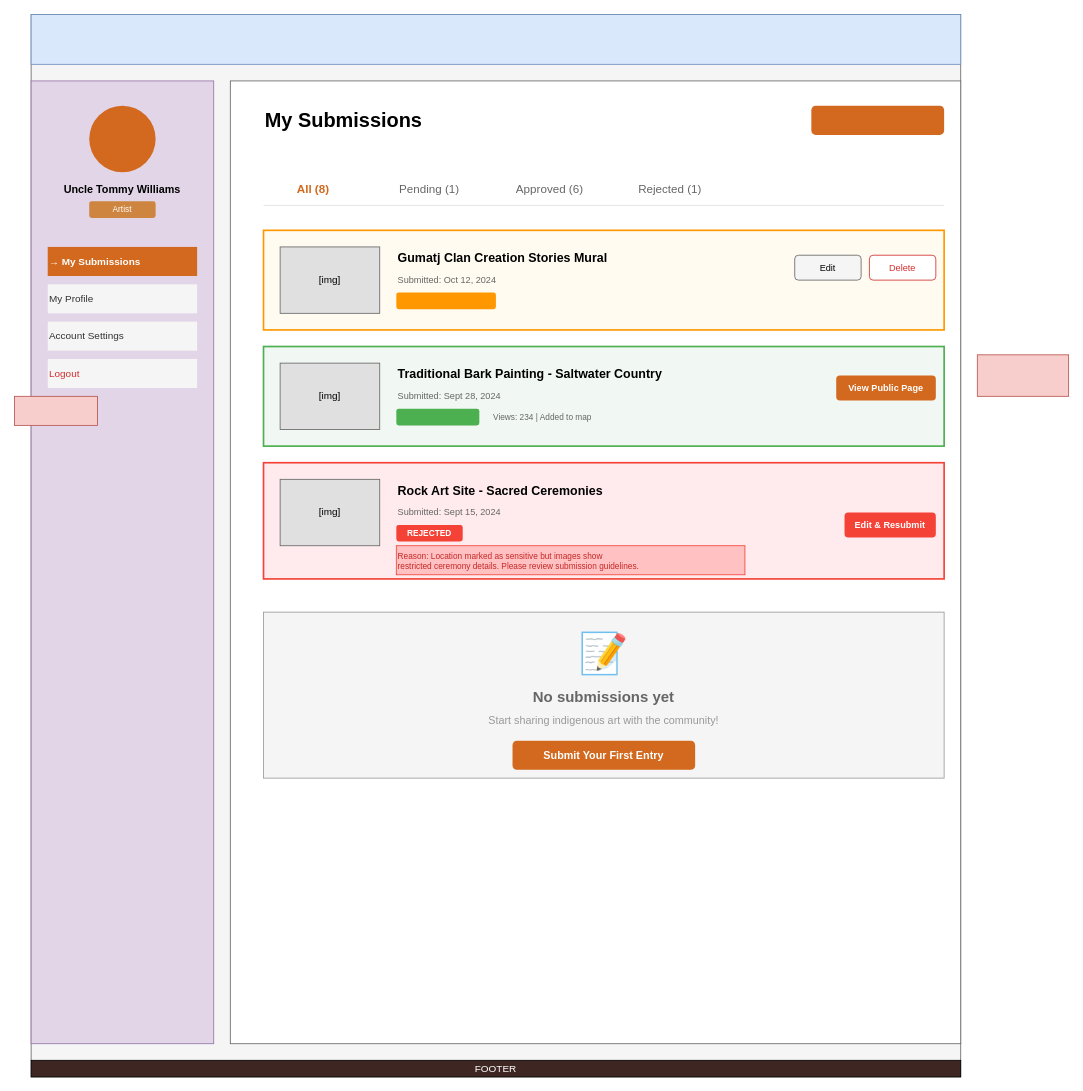
Some shapes in this 1083 by 1091 pixel diagram are drawn without their labels. Here are the shapes that lost their labels. From the top down, the box of each, then its label:
(30, 14, 961, 64): HEADER - Indigenous Art Atlas | Dashboard (highlighted)
(89, 105, 155, 172): TW
(811, 105, 944, 134): + Submit New Art
(396, 292, 496, 309): PENDING REVIEW
(976, 354, 1069, 396): 💡 Status color-coded: Yellow=Pending Green=Approved Red=Rejected
(14, 395, 98, 425): 💡 Sidebar collapses to dropdown on mobile
(396, 408, 479, 425): ✓ APPROVED
(263, 611, 944, 778): EMPTY STATE (when no submissions)
